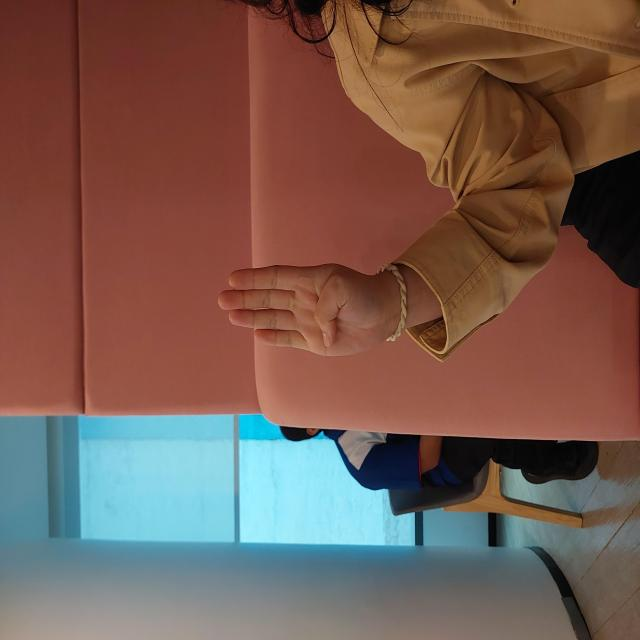B: (278, 212, 383, 398)
